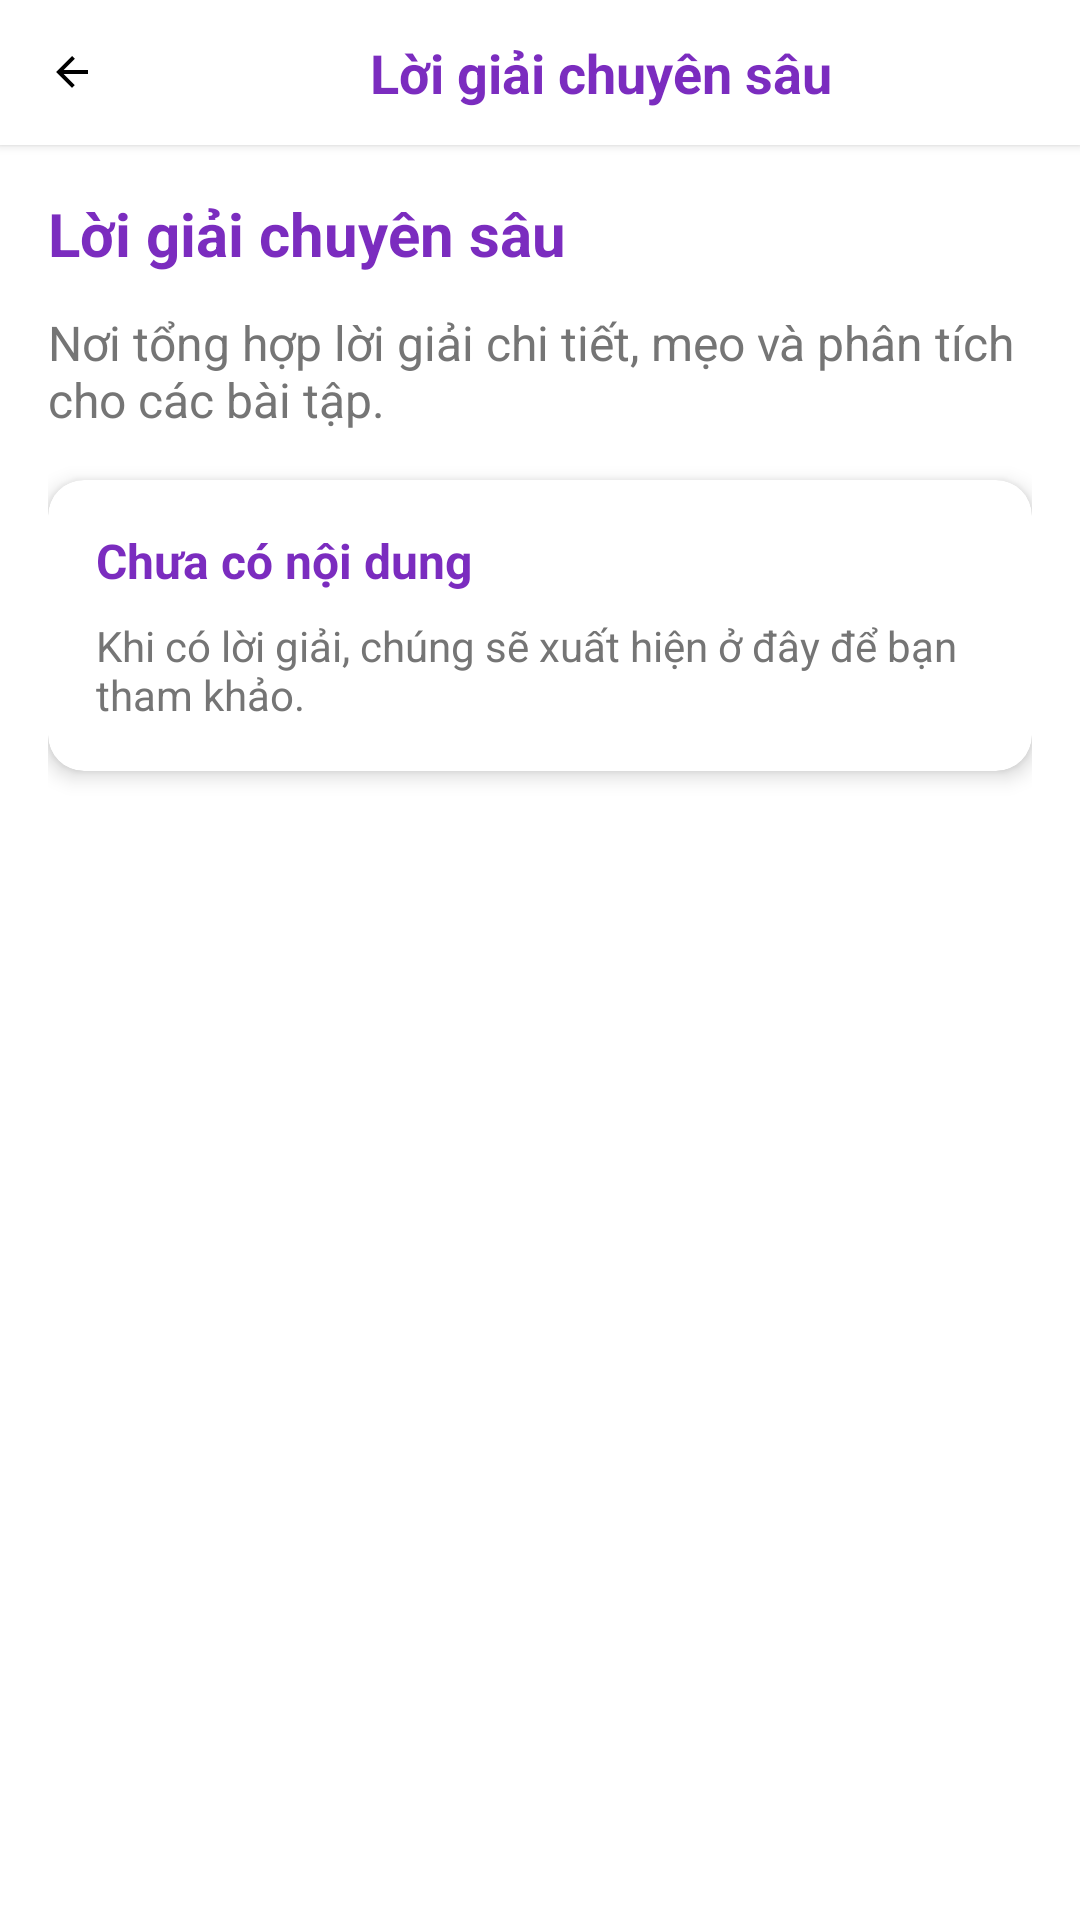

Where to tap for icons on this 1080px×1920px app screen, as (x=x, y=y):
arrow back: (x=72, y=72)
